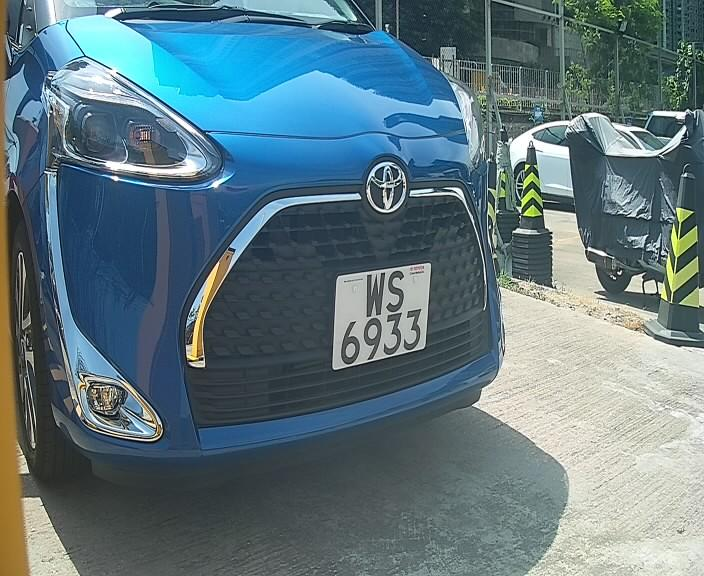License Plate: (327, 253, 434, 379)
